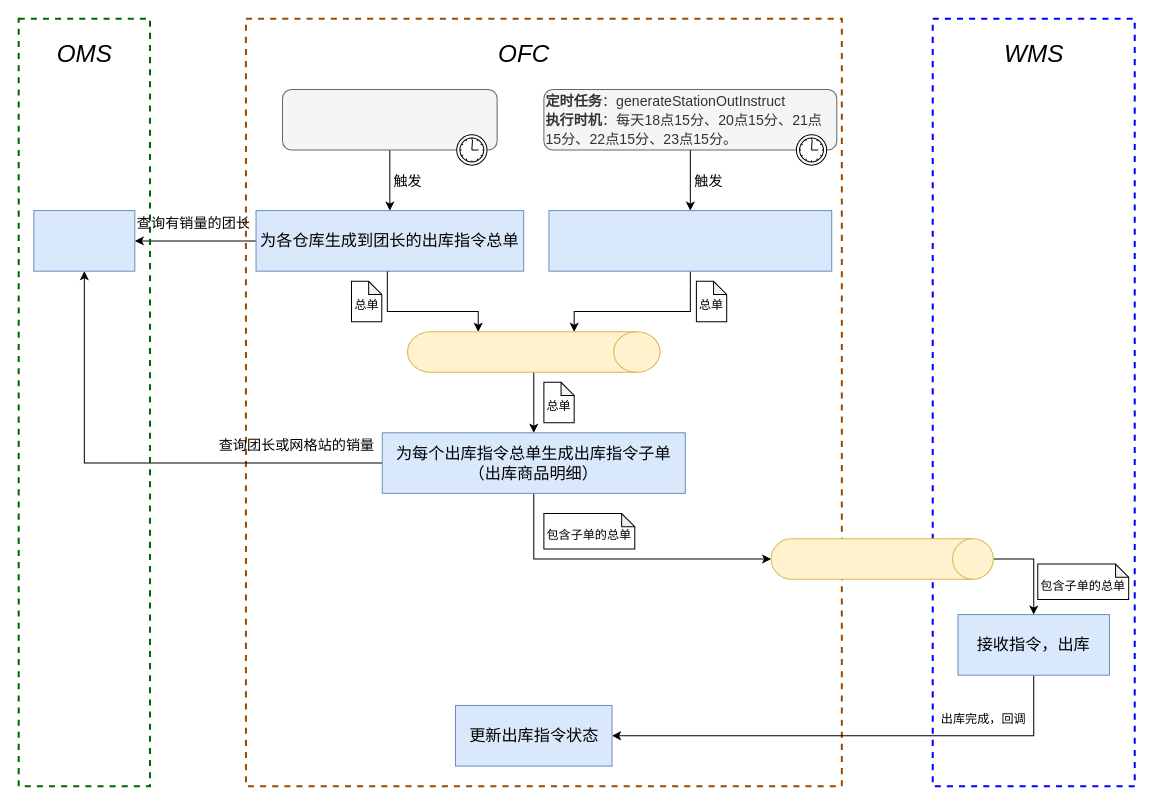
Image size: 1152x804. Some labels were removed from this diagram. Here are the shapes that lost their labels. From the top down, the centre of each, then its label:
At point 389,119: "定时任务 ：generateOutInstruct 执行时机 ：每天23点13分执行。".
At point 84,240: "API".
At point 690,240: "为各仓库生成到网格站的出库指令总单".
At point 533,351: "Topic：ofc_out_instruct_generate".
At point 881,558: "Topic：ofc_out_instruct_syn".
